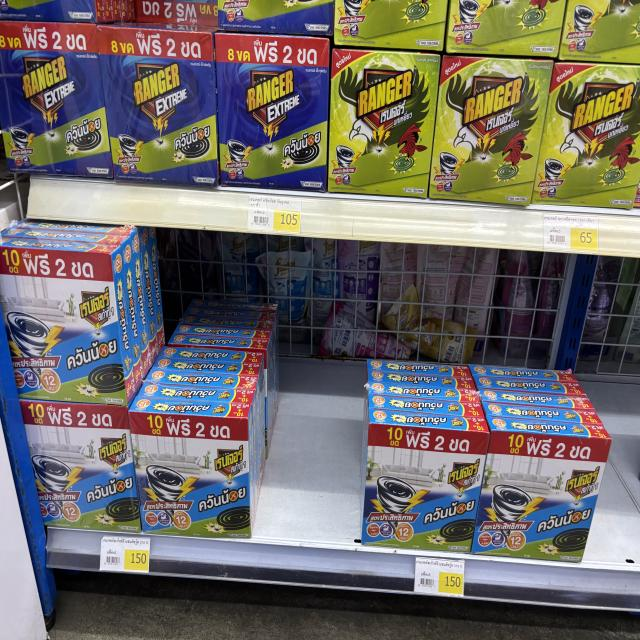empty_shelf: (374, 244, 608, 439), (252, 237, 376, 544), (113, 226, 276, 414), (593, 258, 640, 567)
